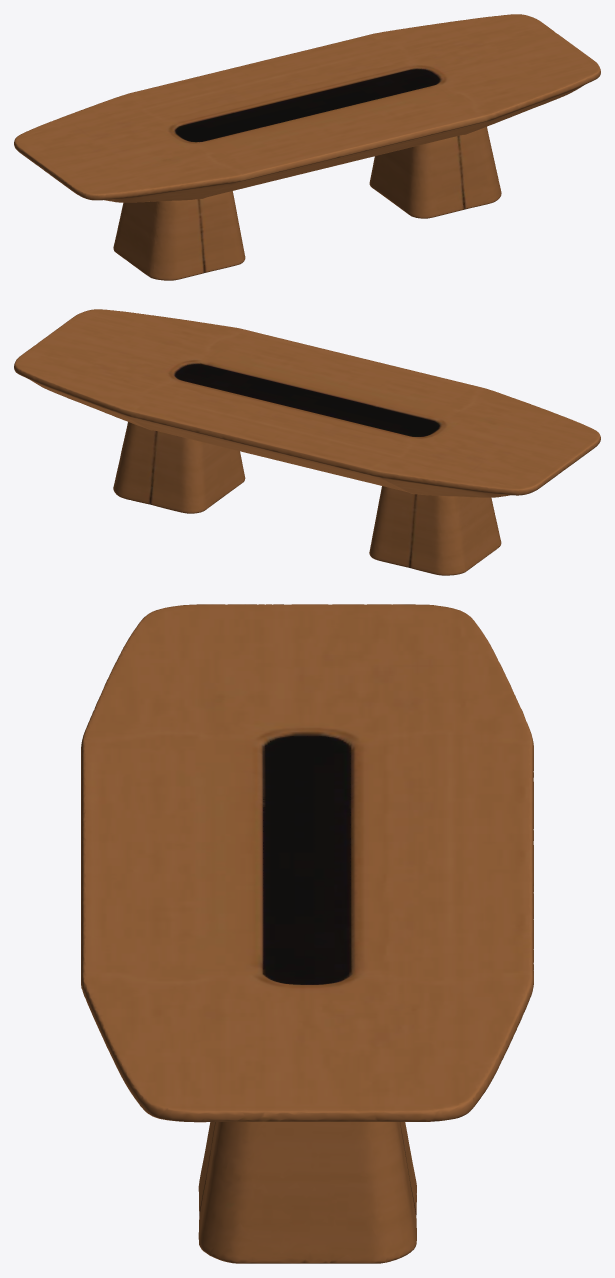
Rendered from Modern Boat-shaped Wood Conference Table with Central Insert [WUjdt0].glb.
The picture shows the model from 3 angles, top to bottom: view 1: azimuth 30°, elevation 25°; view 2: azimuth 150°, elevation 25°; view 3: azimuth 270°, elevation 25°; orthographic projection. The views are drawn at different scales.
Visible parts, largest first — view 1: world; view 2: world; view 3: world.
Part boxes in pixels (box(x1,y1,x2,y2)): world: box(14, 14, 600, 280); world: box(14, 309, 600, 575); world: box(81, 604, 533, 1263).
Bounding box in the file's own units: 1 × 0.2174 × 0.3779.
1 material, 1 textured.
